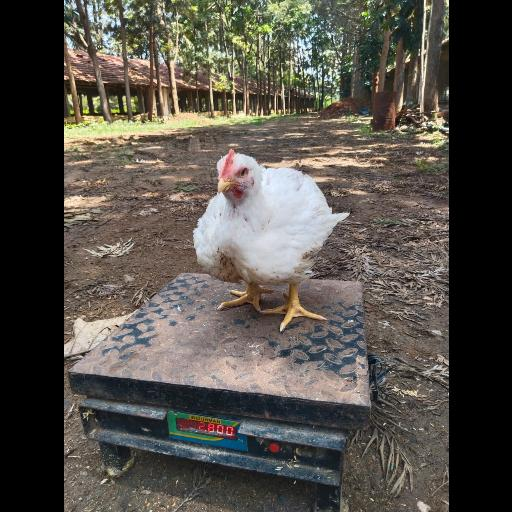chick: (194, 152, 347, 331)
